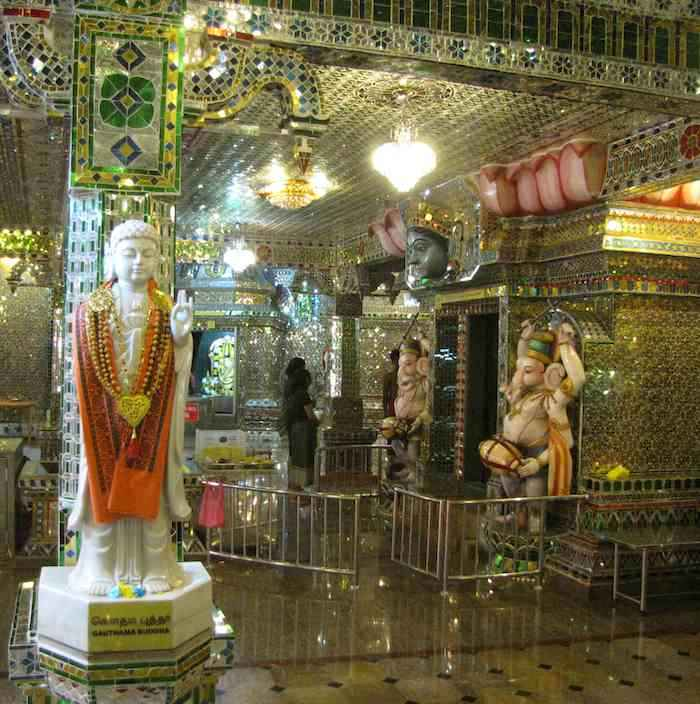Hindu Temple: (33, 149, 593, 582)
